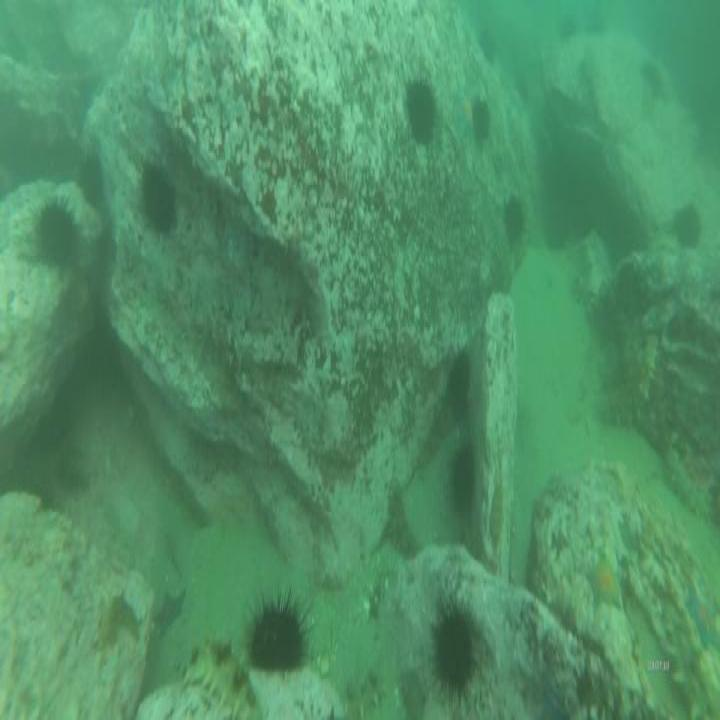echinus: (429, 594, 486, 711), (249, 596, 305, 676), (36, 190, 84, 270), (139, 158, 180, 238), (403, 71, 440, 146), (446, 432, 477, 516), (444, 345, 476, 419), (497, 185, 529, 256), (671, 196, 704, 254), (74, 149, 106, 208), (467, 94, 498, 151)
holothurian: (176, 634, 262, 720), (661, 434, 717, 526), (602, 336, 657, 418), (387, 482, 419, 560)
starfish: (584, 549, 629, 619), (685, 583, 720, 656)
